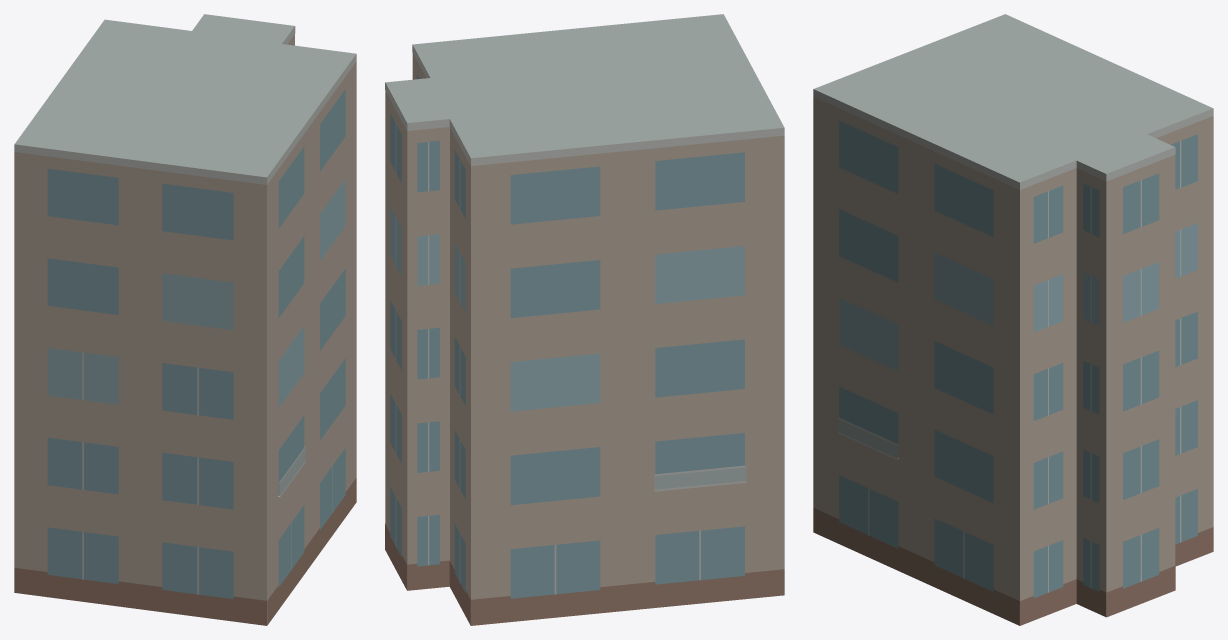
The model's file is survey-upis-32718913.glb.
The picture shows the model from 3 angles, left to right: view 1: azimuth 30°, elevation 25°; view 2: azimuth 150°, elevation 25°; view 3: azimuth 270°, elevation 25°; orthographic projection. The views are drawn at different scales.
Visible parts, largest first — view 1: survey-upis-32718913.tmp; view 2: survey-upis-32718913.tmp; view 3: survey-upis-32718913.tmp.
Part boxes in pixels (x1,y1,x2,y2): survey-upis-32718913.tmp: [14, 14, 356, 625]; survey-upis-32718913.tmp: [385, 14, 784, 625]; survey-upis-32718913.tmp: [813, 14, 1213, 625].
Size of the model in its own units: 11.84 by 14.5 by 11.87.
